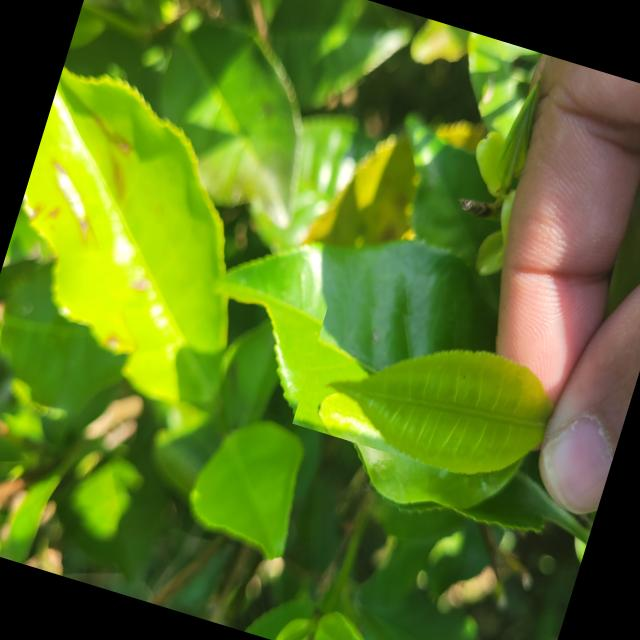Catagory A(1-2 days): (291, 280, 582, 499)
